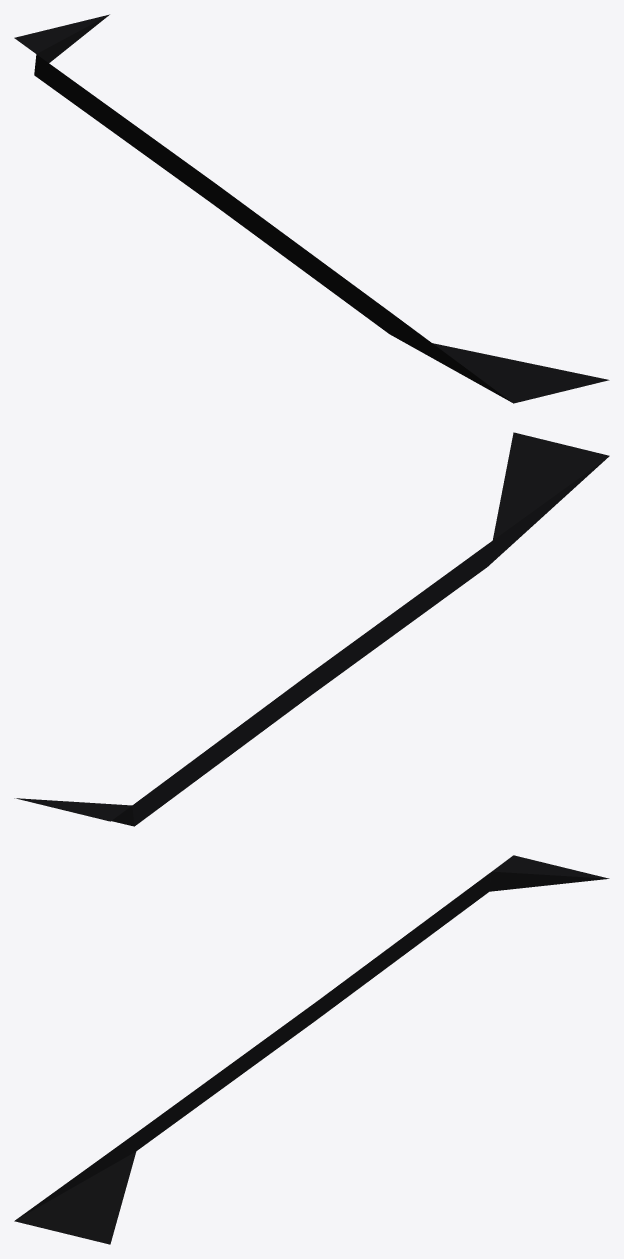
Rendered from skirt_L_skirt.glb.
3 renders of one model, top to bottom at view 1: azimuth 30°, elevation 25°; view 2: azimuth 150°, elevation 25°; view 3: azimuth 330°, elevation 25°, orthographic.
Visible parts, largest first — view 1: skirt_L_skirt; view 2: skirt_L_skirt; view 3: skirt_L_skirt.
Boxes of the visible parts, box(x1,y1,x2,y2) form: skirt_L_skirt: box(14, 14, 609, 403); skirt_L_skirt: box(14, 432, 609, 826); skirt_L_skirt: box(14, 855, 609, 1244).
Size of the model in its own units: 0.2248 by 0.0452 by 1.98.
1 material, 1 textured.
